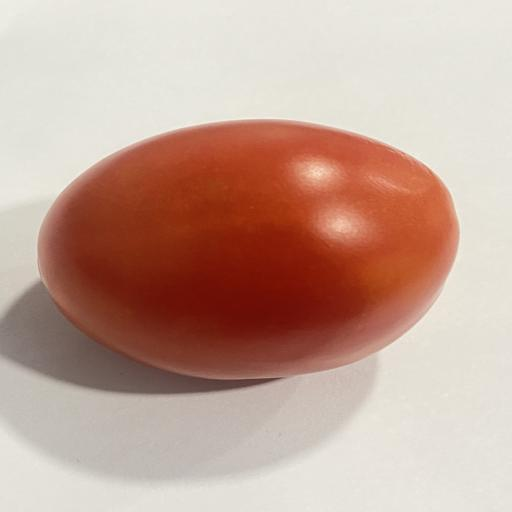ripe: (38, 120, 458, 379)
